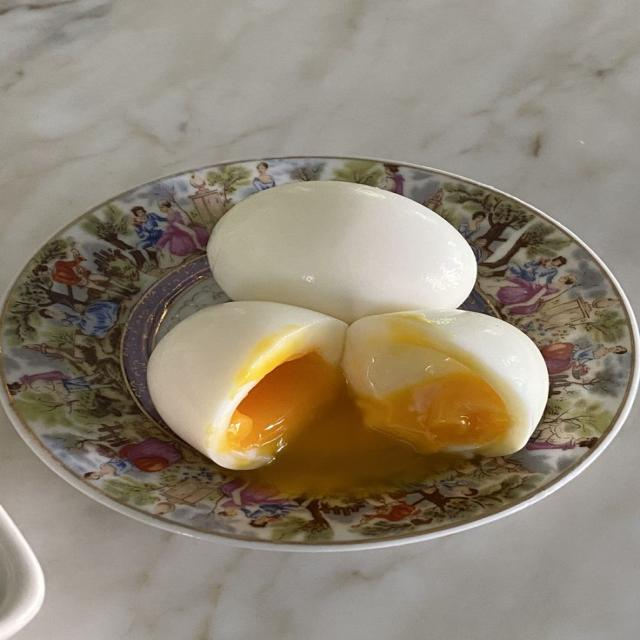egg boiled: (208, 181, 476, 322), (147, 302, 346, 469), (343, 310, 548, 456)
